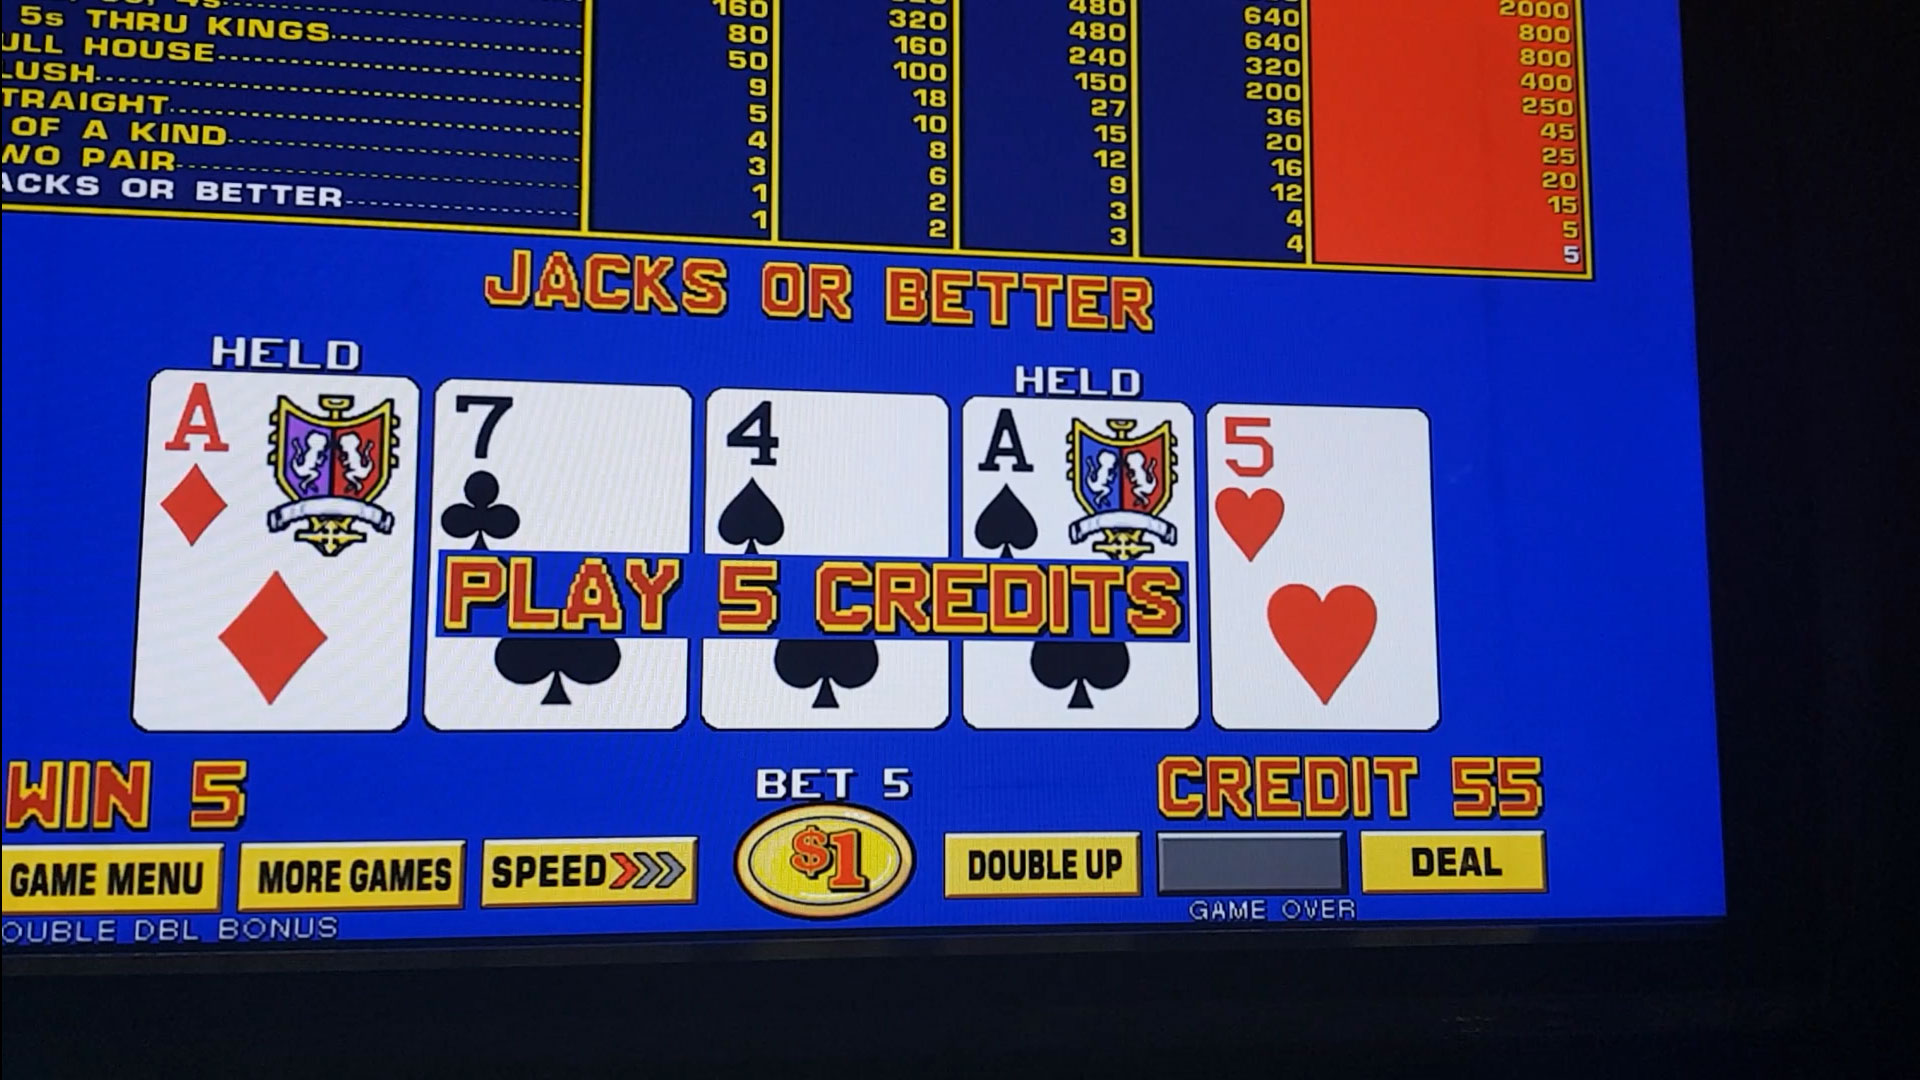C7: (442, 393, 684, 538)
DA: (156, 377, 418, 546)
H5: (1207, 407, 1422, 568)
S4: (712, 401, 945, 546)
SA: (967, 407, 1191, 553)
